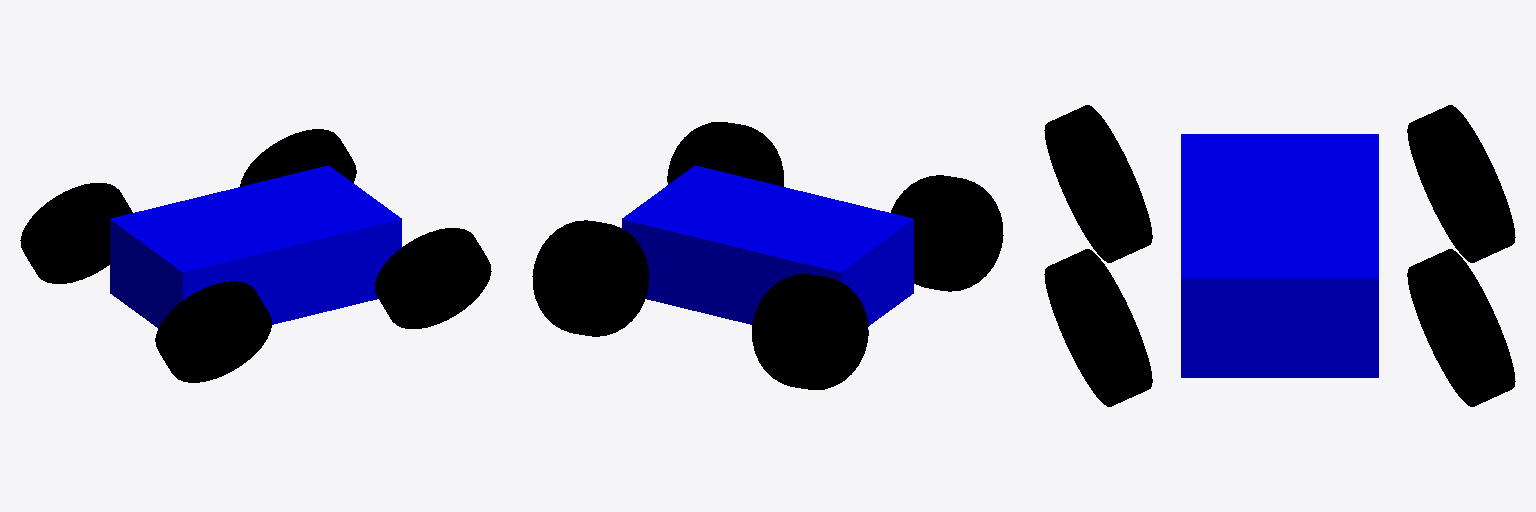
robot.urdf — omnibot:
<?xml version="1.0"?>

<robot name="omnibot" xmlns:xacro="http://www.ros.org/wiki/xacro">
 
  <link name="base_link">
    <visual>
      <origin xyz="0 0 0" rpy="0 0 0" />
      <geometry>
        <box size="0.31 0.18 0.10" />
      </geometry>
      <material name="blue">
        <color rgba="0.0 0.0 1.0 1.0"/>
      </material>
    </visual>
    <collision>
      <origin xyz="0 0 0" rpy="0 0 0" />
      <geometry>
        <box size="0.31 0.18 0.10" />
      </geometry>
    </collision>
    <inertial>
      <origin xyz="0 0 0" rpy="0 0 0" />
      <mass value="5.0"/>
      <inertia ixx="0.1" ixy="0.0" ixz="0.0" iyy="0.1" iyz="0.0" izz="0.1"/>
    </inertial>
  </link>

  <joint name="joint_front_left" type="continuous">
    <origin xyz="0.155 0.165 0" rpy="90 0 0"/>
    <parent link="base_link"/>
    <child link="wheel_front_left"/>
    <axis xyz="0 0 1"/>
  </joint>

  <link name="wheel_front_left">
    <visual>
      <origin xyz="0 0 0" rpy="0 0 0" />
      <geometry>
        <cylinder radius="0.07" length="0.04" />
      </geometry>
      <material name="black">
        <color rgba="0.0 0.0 0.0 1.0"/>
      </material>
    </visual>
    <collision>
      <origin xyz="0 0 0" rpy="0 0 0" />
      <geometry>
        <cylinder radius="0.07" length="0.04" />
      </geometry>
    </collision>
    <inertial>
      <origin xyz="0 0 0" rpy="0 0 0" />
      <mass value="1.0"/>
      <inertia ixx="0.001" ixy="0.0" ixz="0.0" iyy="0.001" iyz="0.0" izz="0.001"/>
    </inertial>
  </link>

  <joint name="joint_front_right" type="continuous">
    <origin xyz="0.155 -0.165 0" rpy="90 0 0"/>
    <parent link="base_link"/>
    <child link="wheel_front_right"/>
    <axis xyz="0 0 1"/>
  </joint>

 <link name="wheel_front_right">
  <visual>
    <origin xyz="0 0 0" rpy="0 0 0" />
    <geometry>
      <cylinder radius="0.07" length="0.04" />
    </geometry>
    <material name="black">
      <color rgba="0.0 0.0 0.0 1.0"/>
    </material>
  </visual>
  <collision>
    <origin xyz="0 0 0" rpy="0 0 0" />
    <geometry>
      <cylinder radius="0.07" length="0.04" />
    </geometry>
  </collision>
  <inertial>
    <origin xyz="0 0 0" rpy="0 0 0" />
    <mass value="1.0"/>
    <inertia ixx="0.001" ixy="0.0" ixz="0.0" iyy="0.001" iyz="0.0" izz="0.001"/>
  </inertial>
</link>


  <joint name="joint_back_left" type="continuous">
    <origin xyz="-0.155 0.165 0" rpy="90 0 0"/>
    <parent link="base_link"/>
    <child link="wheel_back_left"/>
    <axis xyz="0 0 1"/>
  </joint>

  <link name="wheel_back_left">
    <visual>
      <origin xyz="0 0 0" rpy="0 0 0" />
      <geometry>
        <cylinder radius="0.07" length="0.04" />
      </geometry>
      <material name="black">
        <color rgba="0.0 0.0 0.0 1.0"/>
      </material>
    </visual>
    <collision>
      <origin xyz="0 0 0" rpy="0 0 0" />
      <geometry>
        <cylinder radius="0.07" length="0.04" />
      </geometry>
    </collision>
    <inertial>
      <origin xyz="0 0 0" rpy="0 0 0" />
      <mass value="1.0"/>
      <inertia ixx="0.001" ixy="0.0" ixz="0.0" iyy="0.001" iyz="0.0" izz="0.001"/>
    </inertial>
  </link>

  <joint name="joint_back_right" type="continuous">
    <origin xyz="-0.155 -0.165 0" rpy="90 0 0"/>
    <parent link="base_link"/>
    <child link="wheel_back_right"/>
    <axis xyz="0 0 1"/>
  </joint>

  <link name="wheel_back_right">
    <visual>
      <origin xyz="0 0 0" rpy="0 0 0" />
      <geometry>
        <cylinder radius="0.07" length="0.04" />
      </geometry>
      <material name="black">
        <color rgba="0.0 0.0 0.0 1.0"/>
      </material>
    </visual>
    <collision>
      <origin xyz="0 0 0" rpy="0 0 0" />
      <geometry>
        <cylinder radius="0.07" length="0.04" />
      </geometry>
    </collision>
    <inertial>
      <origin xyz="0 0 0" rpy="0 0 0" />
      <mass value="1.0"/>
      <inertia ixx="0.001" ixy="0.0" ixz="0.0" iyy="0.001" iyz="0.0" izz="0.001"/>
    </inertial>
  </link>

</robot>

--- Facts derived from the render (not from the file) ---
Views: 3 orthographic renders of the robot side by side, from view 1: azimuth 30°, elevation 25°; view 2: azimuth 150°, elevation 25°; view 3: azimuth 270°, elevation 25°.
Model omnibot with 5 links and 4 joints (4 continuous), rooted at base_link, posed every joint at zero.
Links seen in each view (by area): view 1: base_link, wheel_back_right, wheel_front_right, wheel_back_left, wheel_front_left; view 2: base_link, wheel_front_left, wheel_back_left, wheel_back_right, wheel_front_right; view 3: base_link, wheel_front_right, wheel_back_left, wheel_front_left, wheel_back_right.
Boxes of the visible links, box(x1,y1,x2,y2) form: base_link: box(110, 165, 401, 328); wheel_back_right: box(155, 281, 271, 382); wheel_front_right: box(375, 228, 491, 328); wheel_back_left: box(20, 183, 132, 283); wheel_front_left: box(240, 129, 356, 186); base_link: box(622, 165, 913, 326); wheel_front_left: box(532, 220, 648, 336); wheel_back_left: box(752, 274, 868, 389); wheel_back_right: box(891, 175, 1003, 291); wheel_front_right: box(667, 122, 783, 186); base_link: box(1181, 134, 1378, 377); wheel_front_right: box(1044, 249, 1152, 406); wheel_back_left: box(1407, 105, 1515, 262); wheel_front_left: box(1407, 249, 1515, 406); wheel_back_right: box(1044, 105, 1152, 262).
Bounding box of the posed robot: 0.45 × 0.4285 × 0.1431 m (x, y, z).
Geometry: primitives only (box / cylinder / sphere), no mesh files.